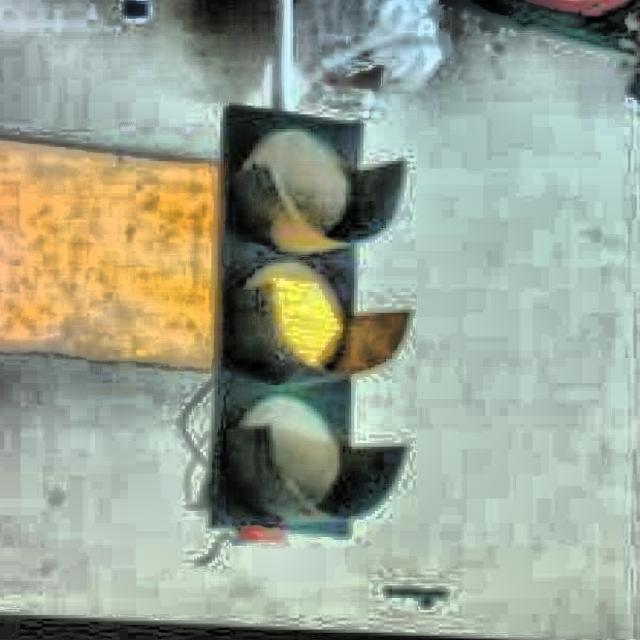yellow: (202, 109, 393, 526)
